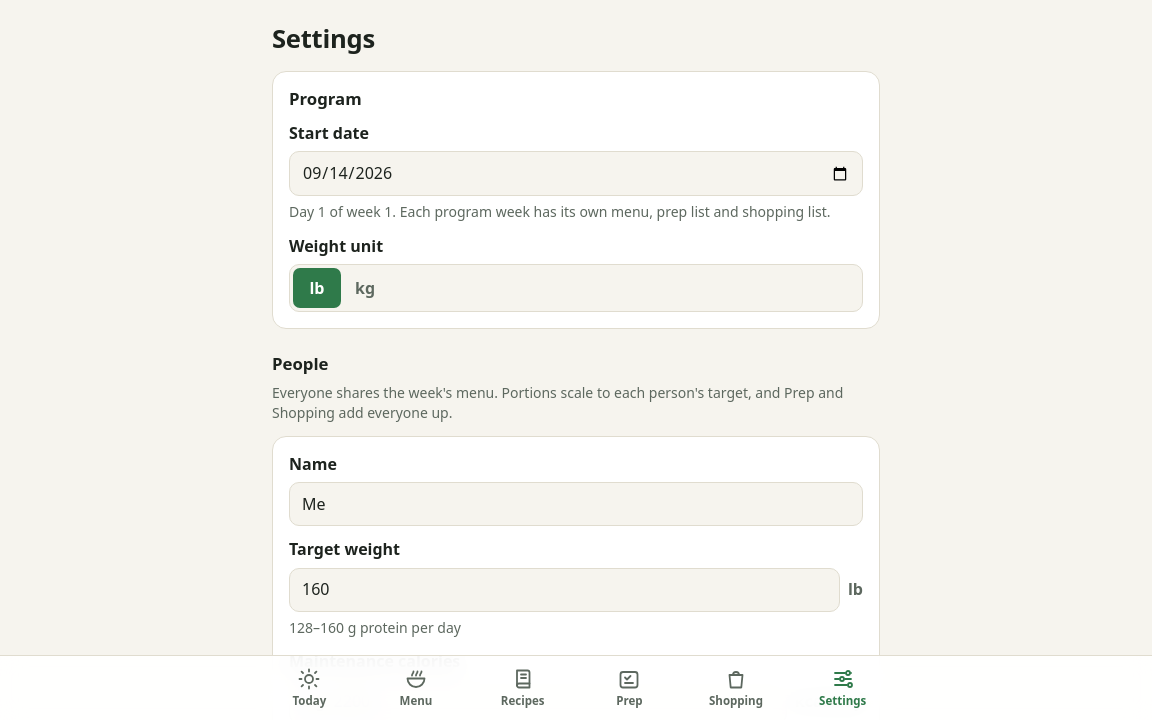
Test: Settings › converts the weight when switching units
Click the radio button labelled "kg": click(365, 288) [355,277,375,299]
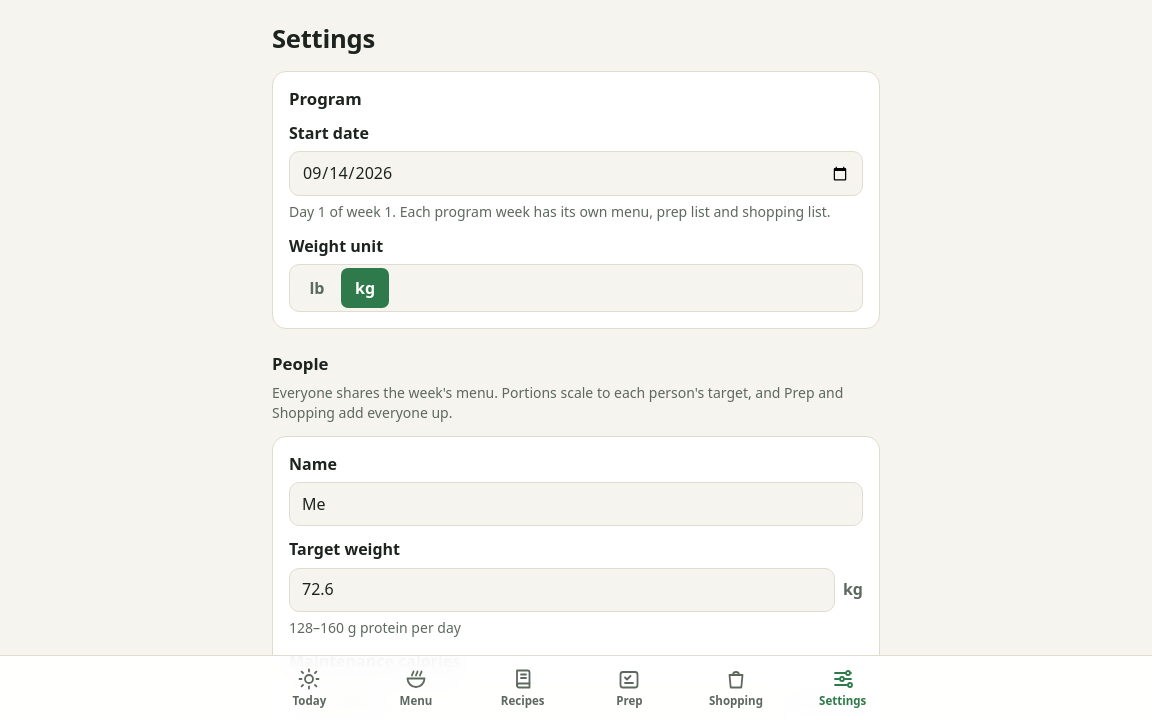
Check: the number field labelled "Target weight" holds "72.6", box [289,568,835,612]
